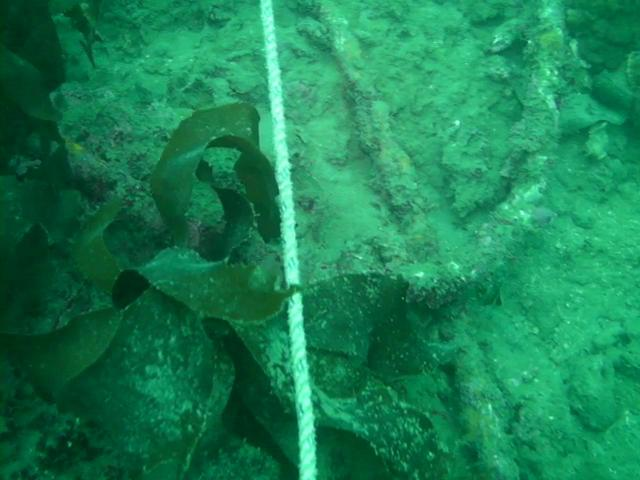rope: (257, 0, 318, 480)
